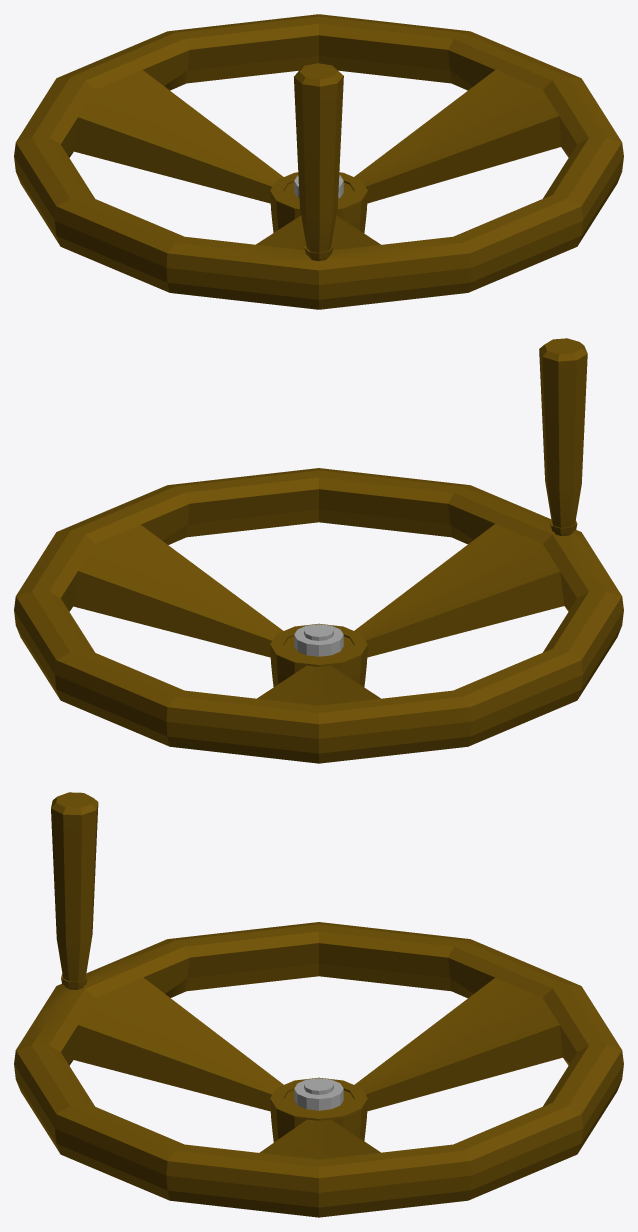
The model's file is VALVE_second.fbx.
3 views of the same model, one above another, from view 1: azimuth 30°, elevation 25°; view 2: azimuth 150°, elevation 25°; view 3: azimuth 270°, elevation 25° (orthographic).
Parts seen in each view (by area): view 1: VALVE; view 2: VALVE, CENTRE; view 3: VALVE, CENTRE.
Boxes of the visible parts, x1,y1,x2,y2 form: VALVE: (14,14,623,309); VALVE: (14,338,623,763); CENTRE: (294,624,343,656); VALVE: (14,792,623,1217); CENTRE: (294,1078,343,1110).
Bounding box in the file's own units: 17.2 × 8.88 × 17.2.
